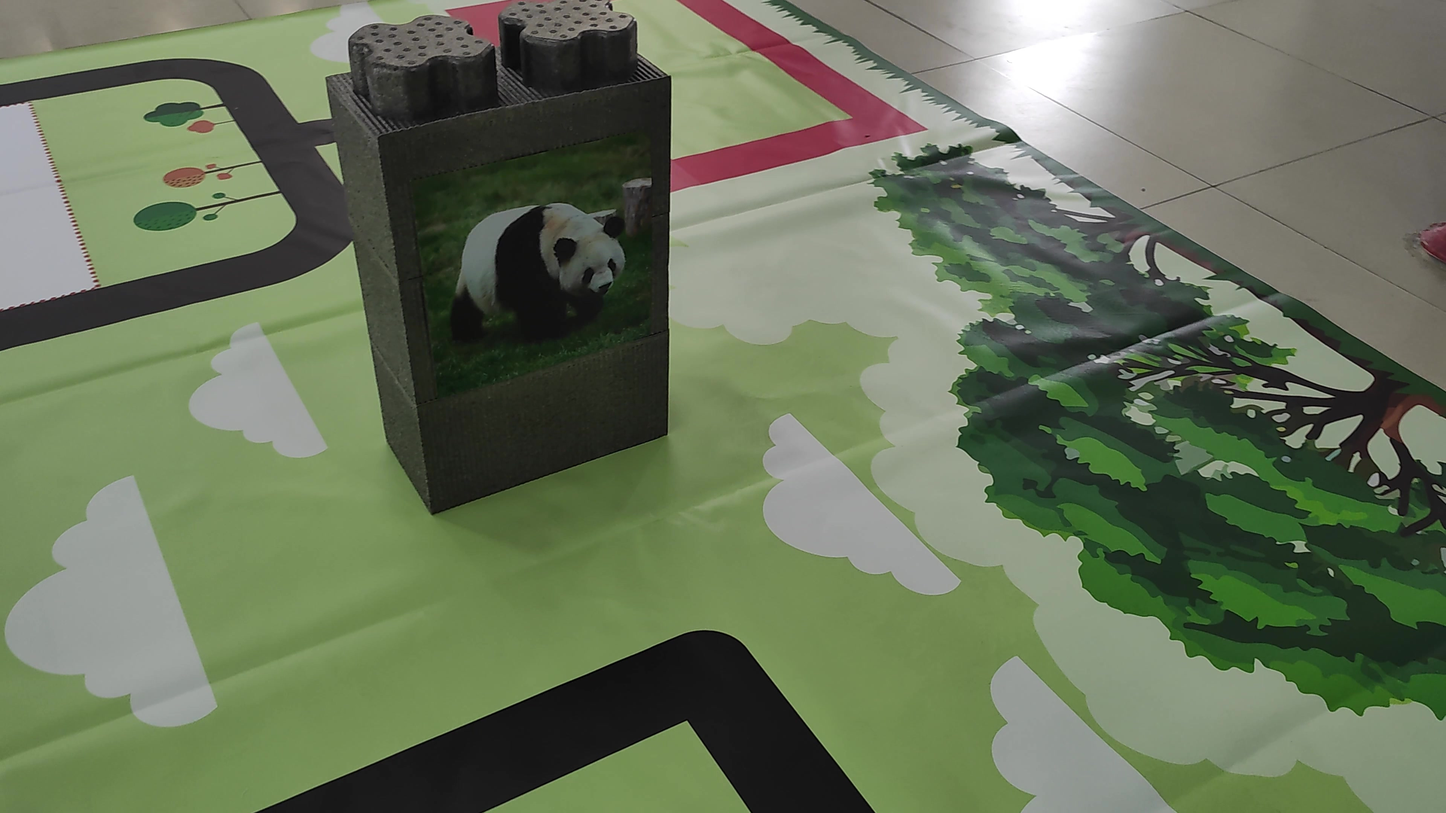panda: (414, 165, 632, 365)
